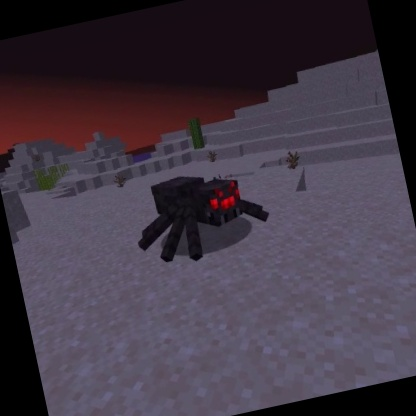spider: (123, 155, 278, 276)
